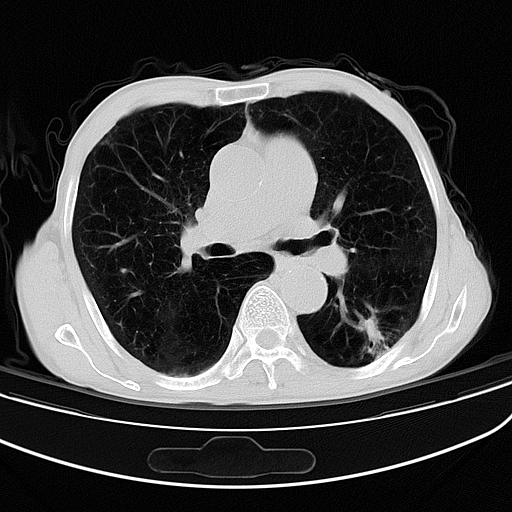nodule: (361, 320, 385, 342)
